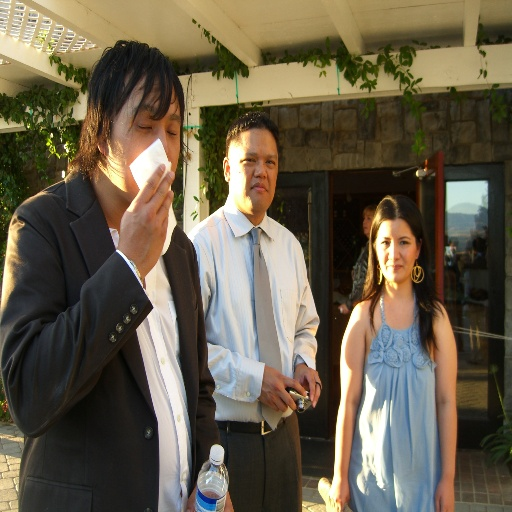hand: (112, 162, 167, 263), (258, 365, 308, 413), (292, 361, 323, 410), (184, 484, 233, 511), (326, 477, 350, 511), (434, 480, 455, 511)
